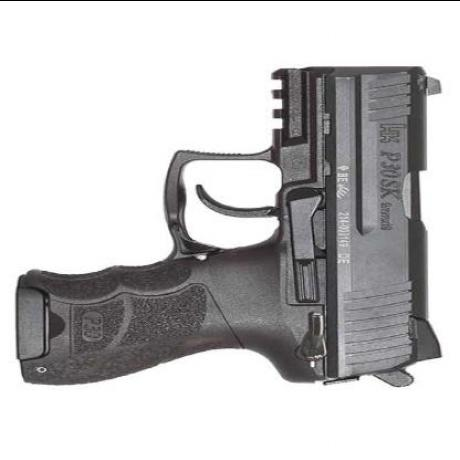weapon: (15, 59, 452, 393)
